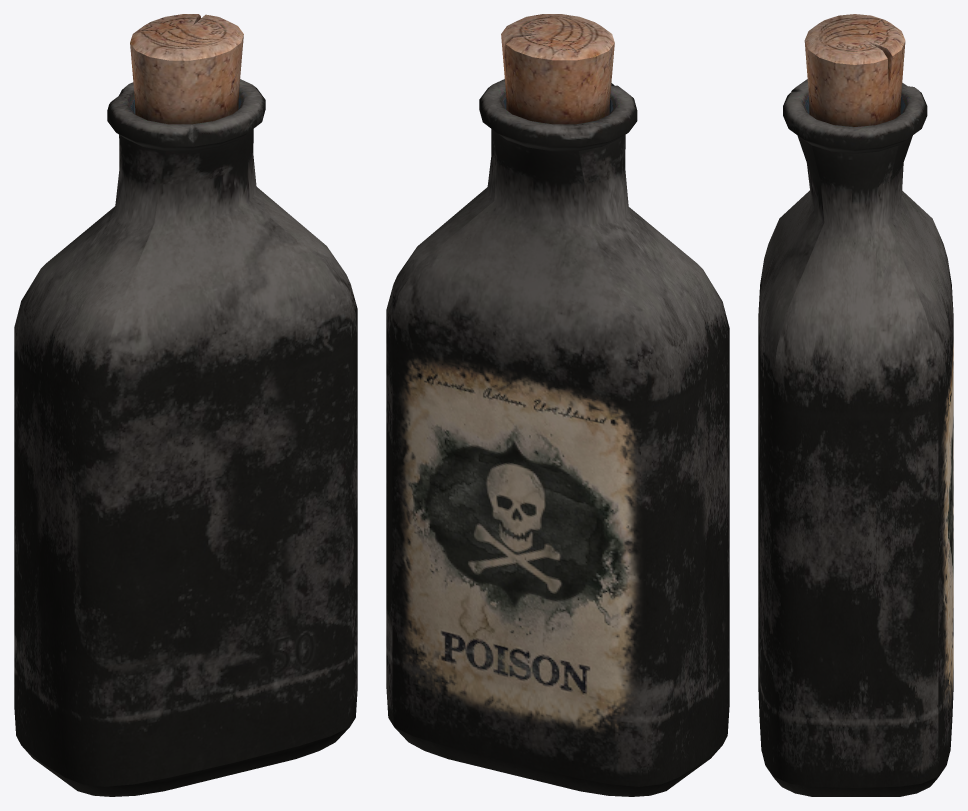
Rendered from bottle.fbx.
The picture shows the model from 3 angles, left to right: view 1: azimuth 30°, elevation 25°; view 2: azimuth 150°, elevation 25°; view 3: azimuth 270°, elevation 25°; orthographic projection.
Parts seen in each view (by area): view 1: Bottle_LP, Cork_LP; view 2: Bottle_LP, Cork_LP; view 3: Bottle_LP, Cork_LP.
Boxes of the visible parts, box(x1,y1,x2,y2) form: Bottle_LP: box(14, 79, 357, 796); Cork_LP: box(130, 14, 243, 124); Bottle_LP: box(386, 79, 729, 796); Cork_LP: box(501, 14, 614, 124); Bottle_LP: box(758, 79, 953, 796); Cork_LP: box(804, 14, 905, 126).
Bounding box in the file's own units: 26.64 × 61.6 × 15.55.
